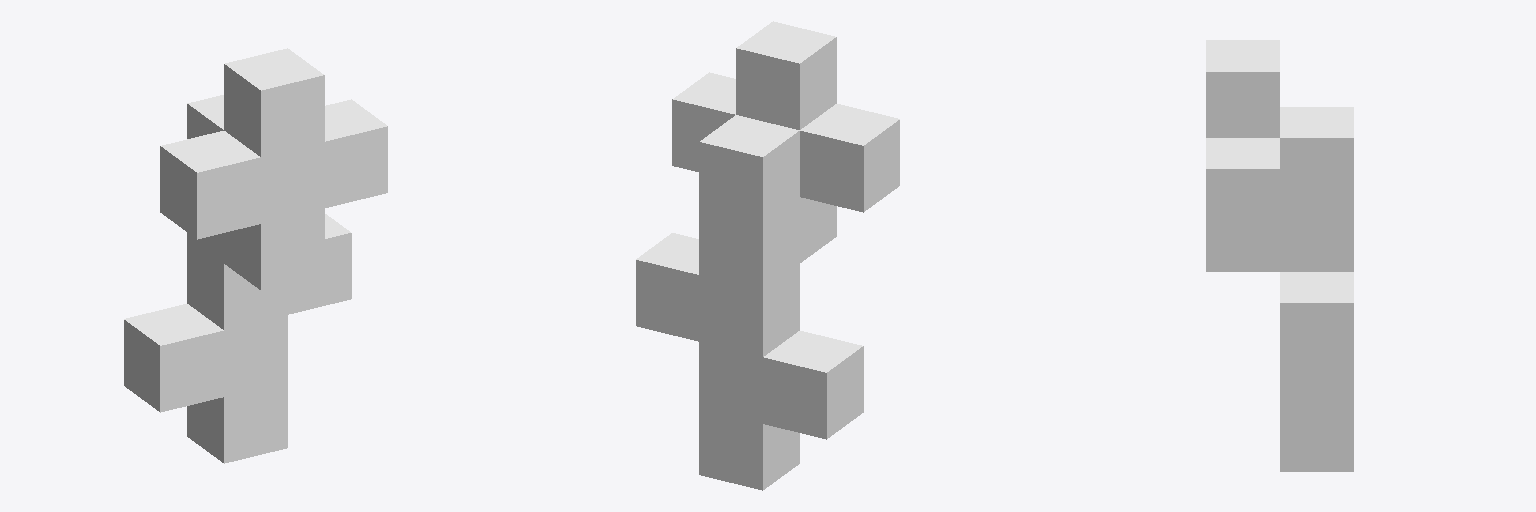
Rendered from Flower.obj.
3 views of the same model, side by side, from view 1: azimuth 30°, elevation 25°; view 2: azimuth 150°, elevation 25°; view 3: azimuth 270°, elevation 25° (orthographic).
Visible parts, largest first — view 1: Flower.001; view 2: Flower.001; view 3: Flower.001.
Part boxes in pixels (bbox=[...]): Flower.001: bbox=[124, 48, 387, 463]; Flower.001: bbox=[636, 21, 899, 490]; Flower.001: bbox=[1206, 40, 1353, 471].
Bounding box in the file's own units: 0.12 × 0.24 × 0.08.